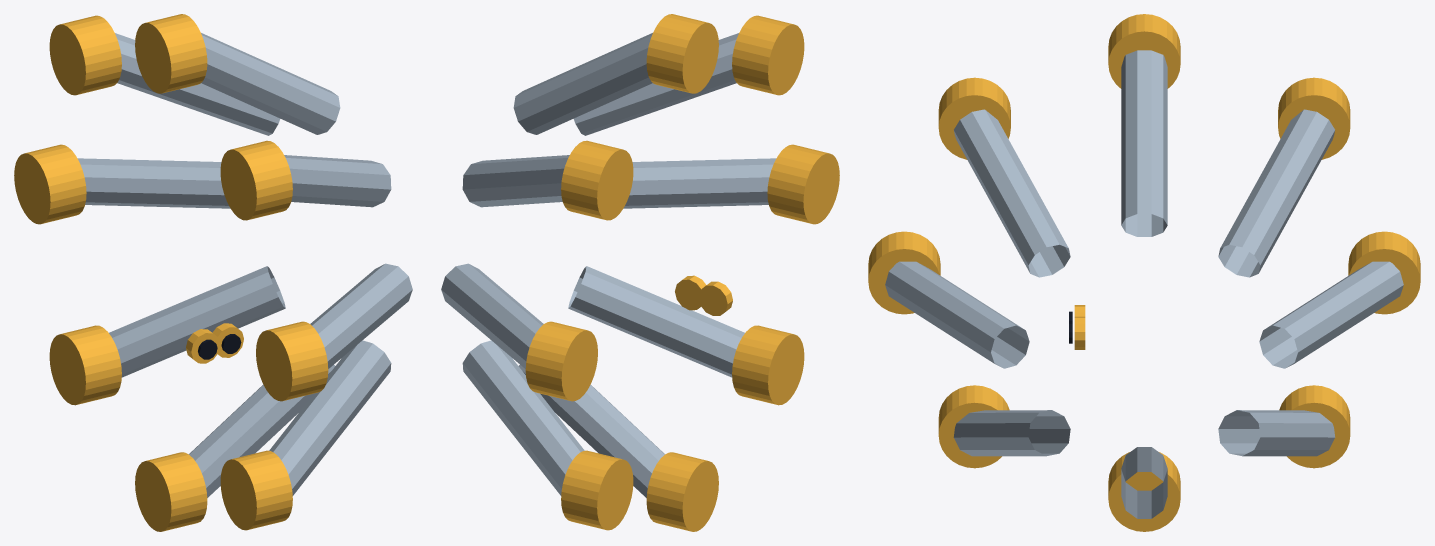
Rendered from 56_L85_MotorizedCaptureGuidePetals.fbx.
3 renders of one model, left to right at view 1: azimuth 30°, elevation 25°; view 2: azimuth 150°, elevation 25°; view 3: azimuth 270°, elevation 25°, orthographic.
Parts seen in each view (by area): view 1: L85_MotorizedCaptureGuidePetals_Part_0000, L85_MotorizedCaptureGuidePetals_Part_0001, L85_MotorizedCaptureGuidePetals_Part_0002, L85_MotorizedCaptureGuidePetals_Part_0004; view 2: L85_MotorizedCaptureGuidePetals_Part_0000, L85_MotorizedCaptureGuidePetals_Part_0001, L85_MotorizedCaptureGuidePetals_Part_0002, L85_MotorizedCaptureGuidePetals_Part_0004; view 3: L85_MotorizedCaptureGuidePetals_Part_0000, L85_MotorizedCaptureGuidePetals_Part_0001.
Part boxes in pixels (bbox=[...]): L85_MotorizedCaptureGuidePetals_Part_0000: bbox=[77, 33, 412, 497]; L85_MotorizedCaptureGuidePetals_Part_0001: bbox=[14, 14, 328, 531]; L85_MotorizedCaptureGuidePetals_Part_0002: bbox=[186, 329, 220, 363]; L85_MotorizedCaptureGuidePetals_Part_0004: bbox=[212, 323, 243, 357]; L85_MotorizedCaptureGuidePetals_Part_0000: bbox=[441, 33, 776, 497]; L85_MotorizedCaptureGuidePetals_Part_0001: bbox=[525, 14, 839, 531]; L85_MotorizedCaptureGuidePetals_Part_0002: bbox=[699, 281, 732, 315]; L85_MotorizedCaptureGuidePetals_Part_0004: bbox=[675, 275, 706, 310]; L85_MotorizedCaptureGuidePetals_Part_0000: bbox=[885, 50, 1403, 518]; L85_MotorizedCaptureGuidePetals_Part_0001: bbox=[868, 14, 1420, 531].
Size of the model in its own units: 80.96 by 214 by 214.
